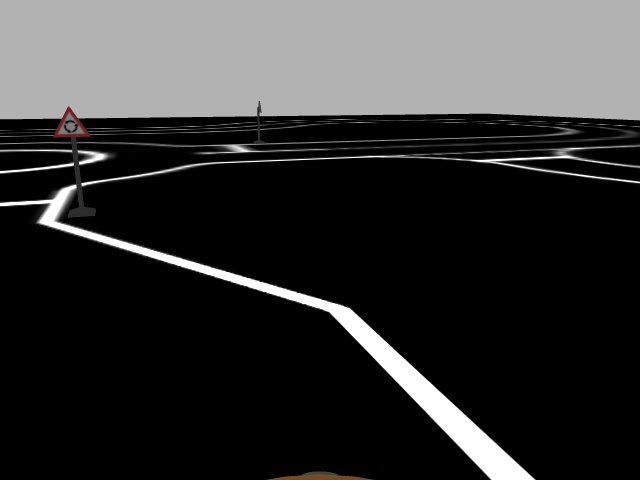roundabout: (52, 106, 91, 137)
